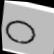no answer: (2, 16, 38, 48)
